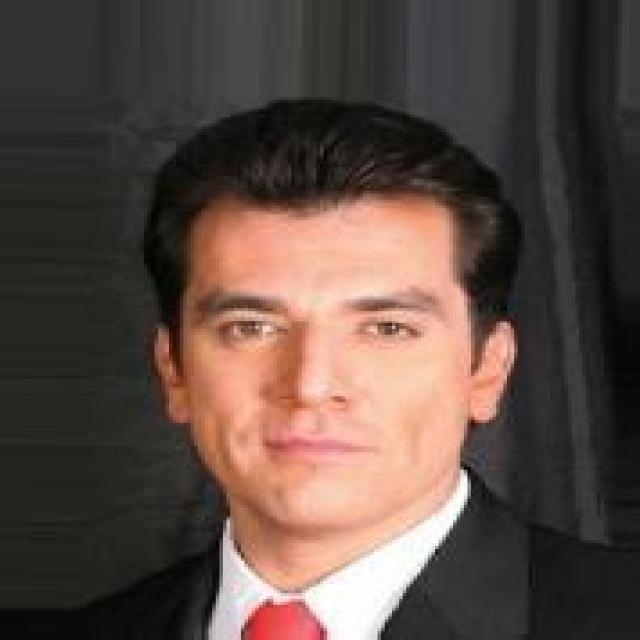nomask: (137, 126, 518, 543)
